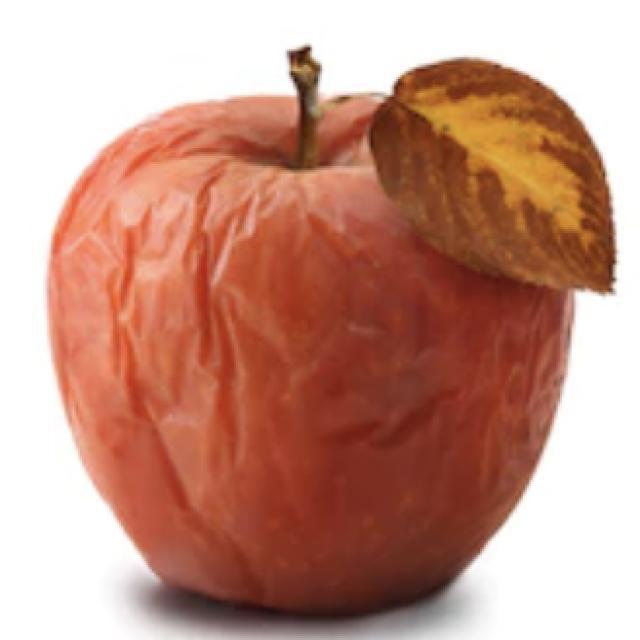Rotten: (53, 73, 572, 623)
